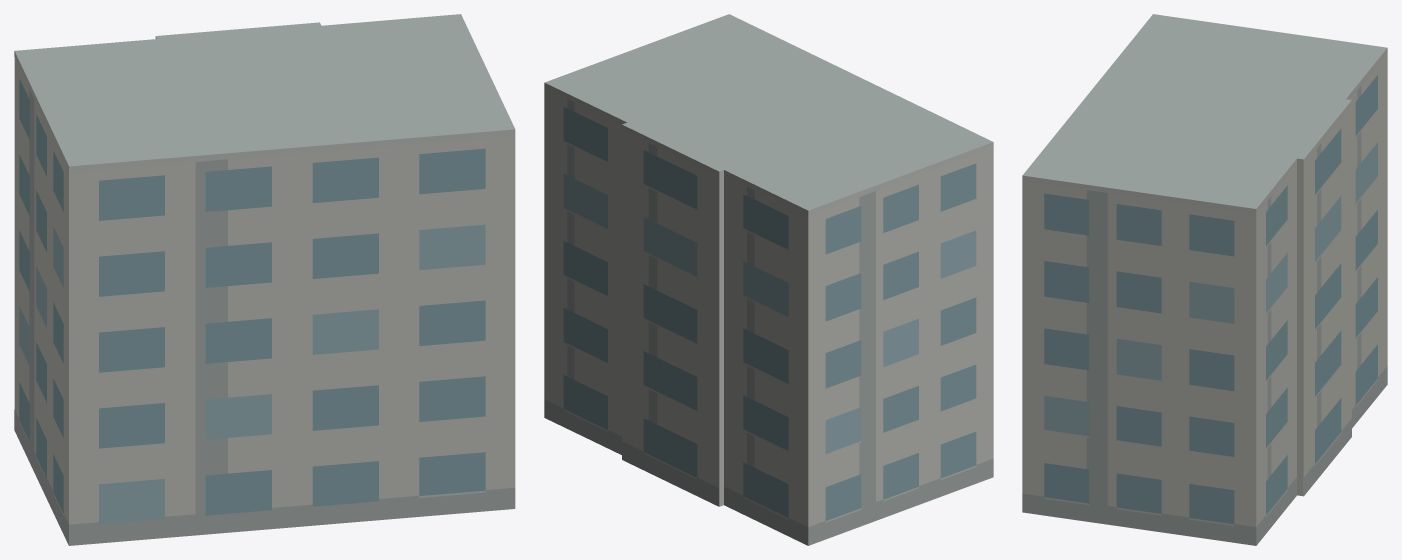
The model's file is survey-upis-32979788.glb.
The picture shows the model from 3 angles, left to right: view 1: azimuth 30°, elevation 25°; view 2: azimuth 150°, elevation 25°; view 3: azimuth 270°, elevation 25°; orthographic projection. The views are drawn at different scales.
Parts seen in each view (by area): view 1: survey-upis-32979788.tmp; view 2: survey-upis-32979788.tmp; view 3: survey-upis-32979788.tmp.
Boxes of the visible parts, bbox=[...] form: survey-upis-32979788.tmp: bbox=[14, 14, 515, 545]; survey-upis-32979788.tmp: bbox=[544, 14, 993, 545]; survey-upis-32979788.tmp: bbox=[1022, 14, 1387, 545].
Bounding box in the file's own units: 18.94 × 15.25 × 14.99.
